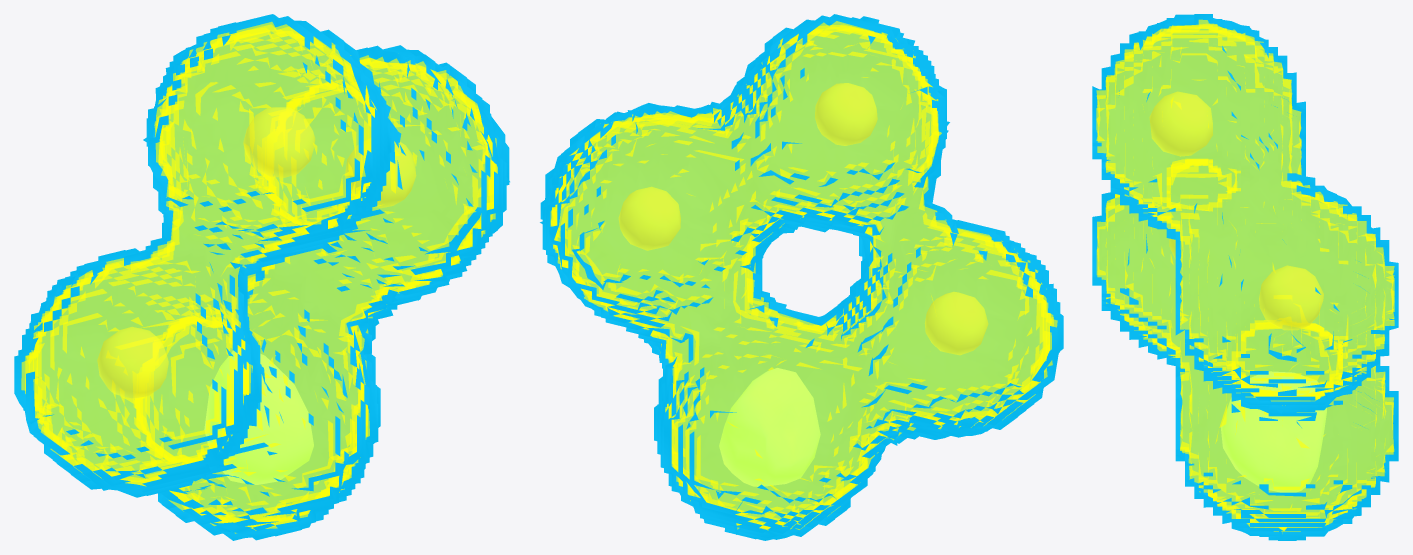
File: citizen.glb
3 views of the same model, side by side, from view 1: azimuth 30°, elevation 25°; view 2: azimuth 150°, elevation 25°; view 3: azimuth 270°, elevation 25° (orthographic). The views are drawn at different scales.
Parts seen in each view (by area): view 1: citizen.001; view 2: citizen.001; view 3: citizen.001.
Part boxes in pixels (x1,y1,x2,y2): citizen.001: (14,14,509,540); citizen.001: (540,14,1063,540); citizen.001: (1092,14,1398,540).
Size of the model in its own units: 3.71 by 3.71 by 2.15.
